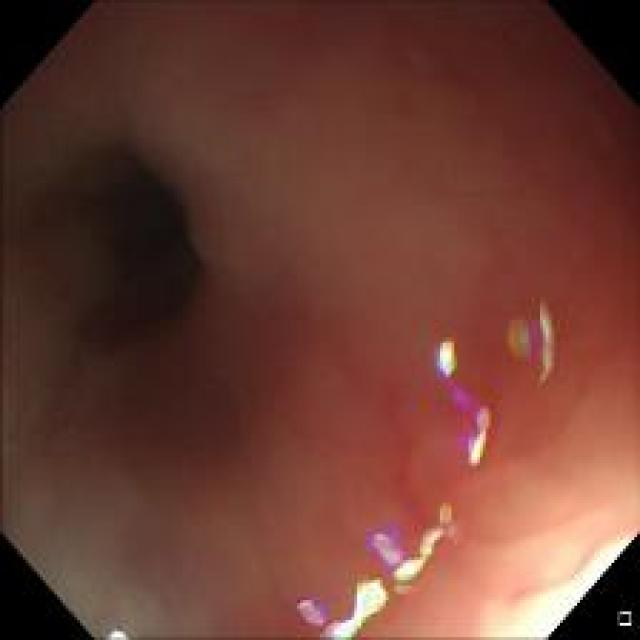color misalignment: (364, 505, 464, 588), (282, 565, 390, 635), (499, 298, 560, 379), (441, 386, 490, 465), (438, 332, 459, 379)
contrast: (35, 132, 196, 355)
saturation: (505, 538, 626, 620)
specularity: (330, 584, 386, 636), (398, 532, 435, 579), (464, 435, 488, 464), (439, 341, 454, 369), (101, 626, 128, 639)
